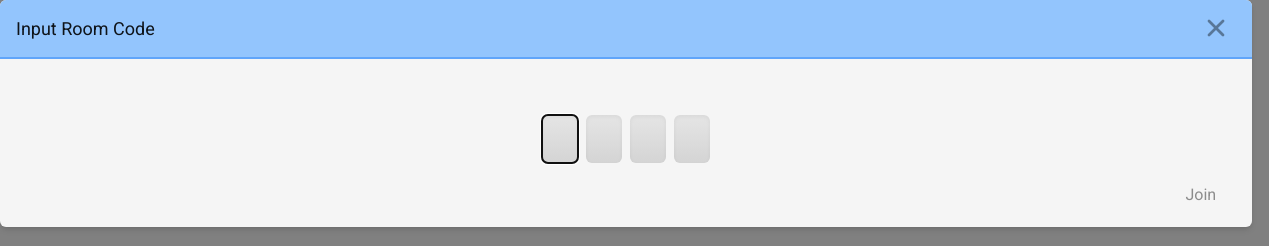
Test: handles basic interaction
Expected: the text "Input Room Code" is shown, [16,14,155,42]
Expected: the button "Join" is disabled, [1162,175,1240,215]
Type "A" into the field named "code1".
click(560, 139); type("A")  # box [542,115,578,163]
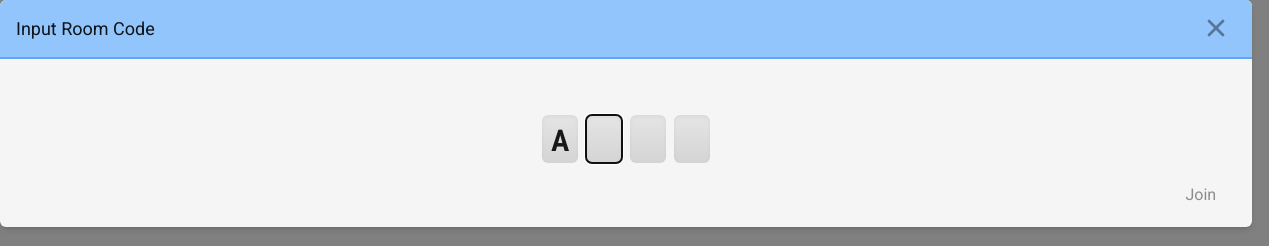
Type "B" into the field named "code2".
click(604, 139); type("B")  # box [586,115,622,163]
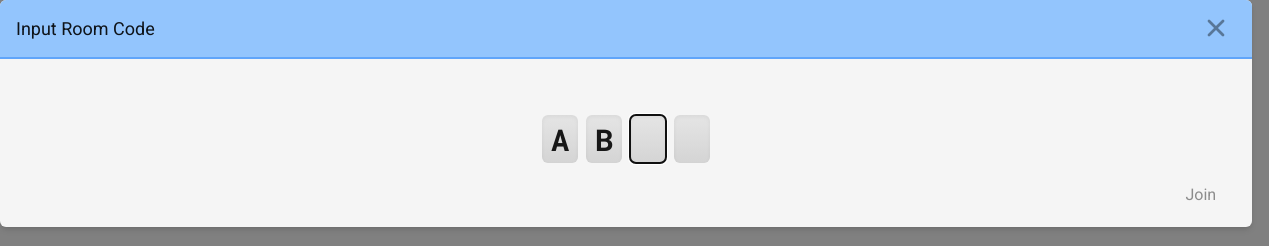
Type "C" into the field named "code3".
click(648, 139); type("C")  # box [630,115,666,163]
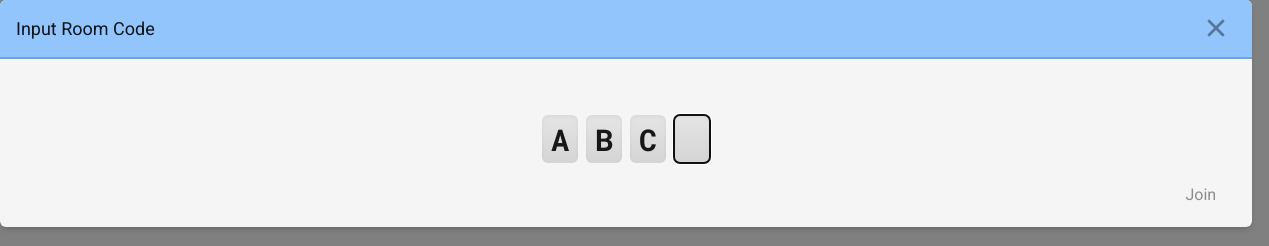
Type "D" into the field named "code4".
click(692, 139); type("D")  # box [674,115,710,163]
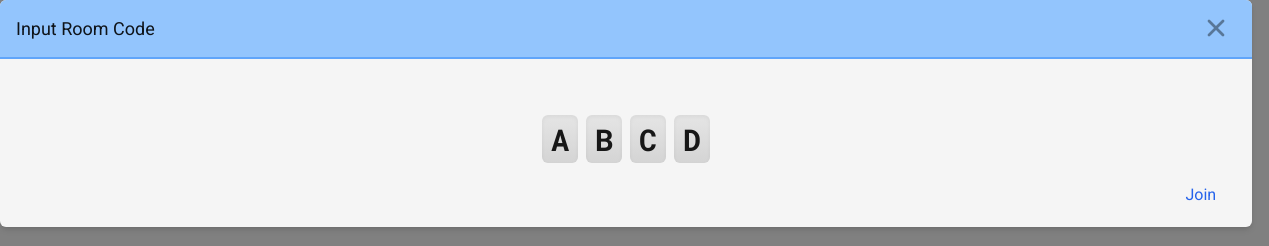
Now the button "Join" is enabled, box [1162,175,1240,215]
